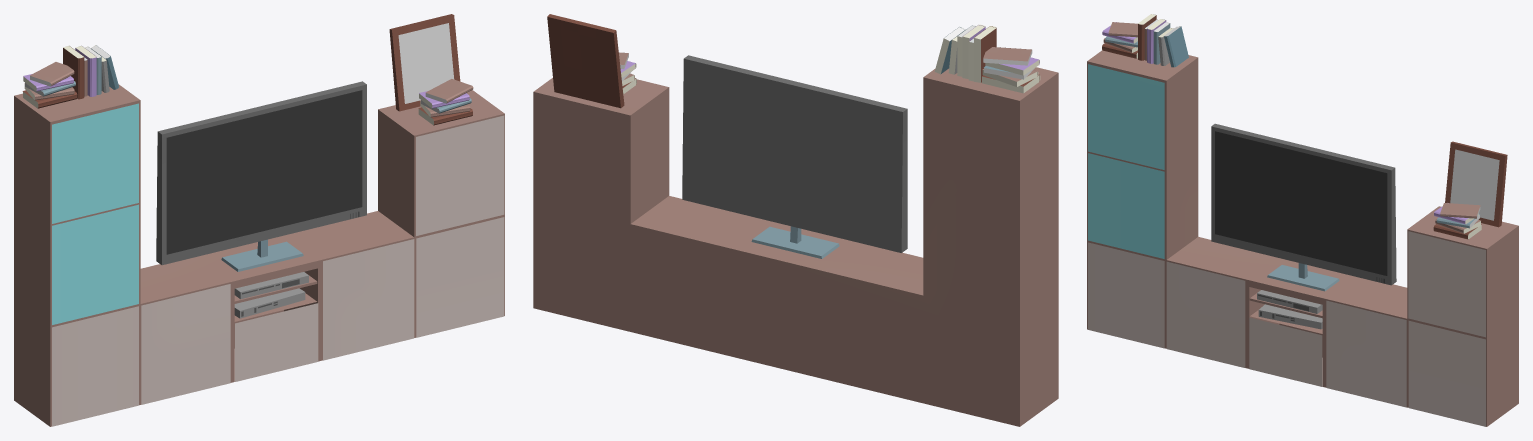
File: tv_wall_014.glb
3 views of the same model, side by side, from view 1: azimuth 30°, elevation 25°; view 2: azimuth 150°, elevation 25°; view 3: azimuth 330°, elevation 25° (orthographic). The views are drawn at different scales.
Visible parts, largest first — view 1: tv_wall_014; view 2: tv_wall_014; view 3: tv_wall_014.
Part boxes in pixels (left/top/right/bottom): tv_wall_014: left=14, top=14, right=504, bottom=426; tv_wall_014: left=533, top=14, right=1058, bottom=426; tv_wall_014: left=1087, top=14, right=1518, bottom=426.
Size of the model in its own units: 2.99 by 2.18 by 0.4392.
Materials: 1 (1 with a texture image).
